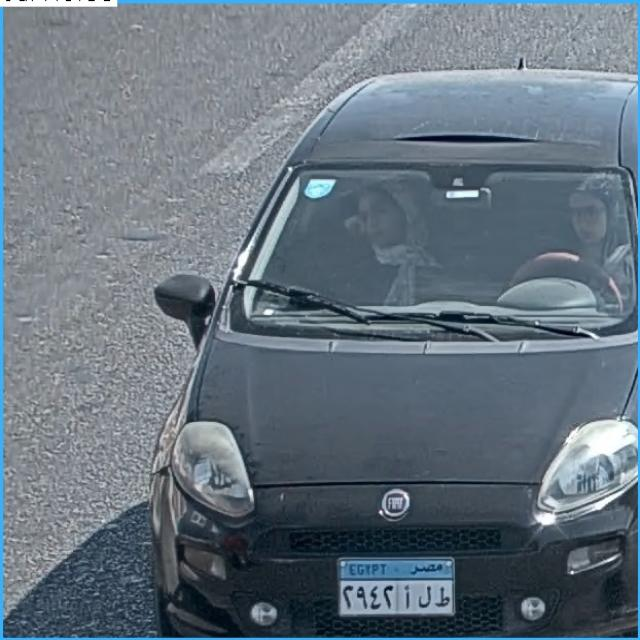windshield: (240, 168, 637, 324)
